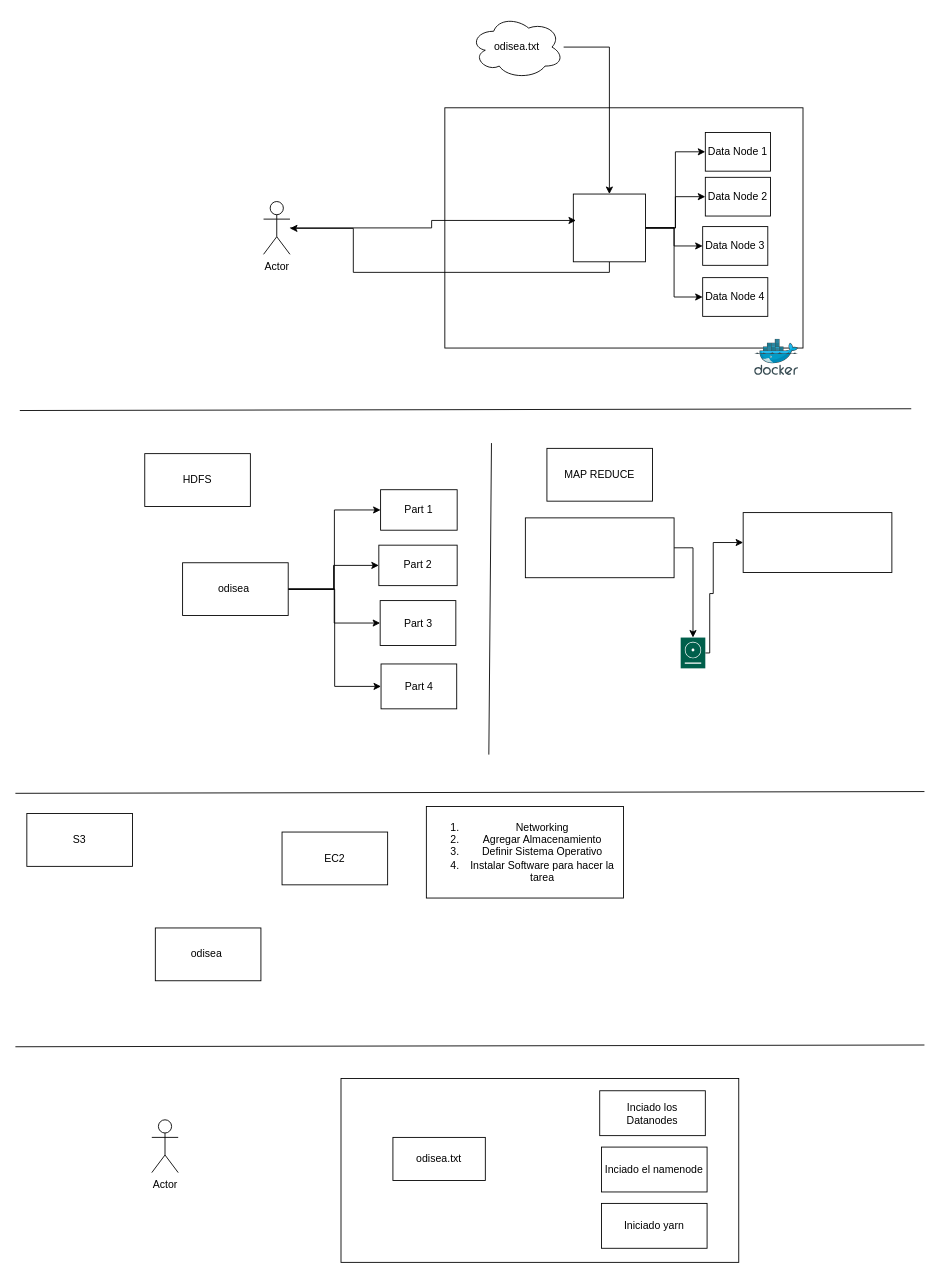
The diagram is 941 pixels wide and 1278 high, and some of its shapes have lost their labels. The shapes that lost their labels are listed below. From the top down, each one's centre as x and y in pixels, then its label:
the point at 608,227: Hadoop Master
the point at 599,547: (Ulises 1) (Ulises 1) (Troya 1)
the point at 817,542: (Ulises 2) (Troya 1)
